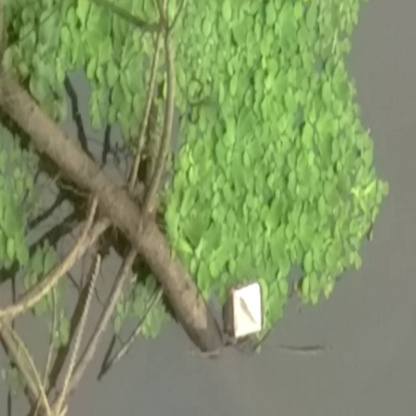branch: (11, 87, 219, 359)
milk-box: (223, 283, 273, 341)
